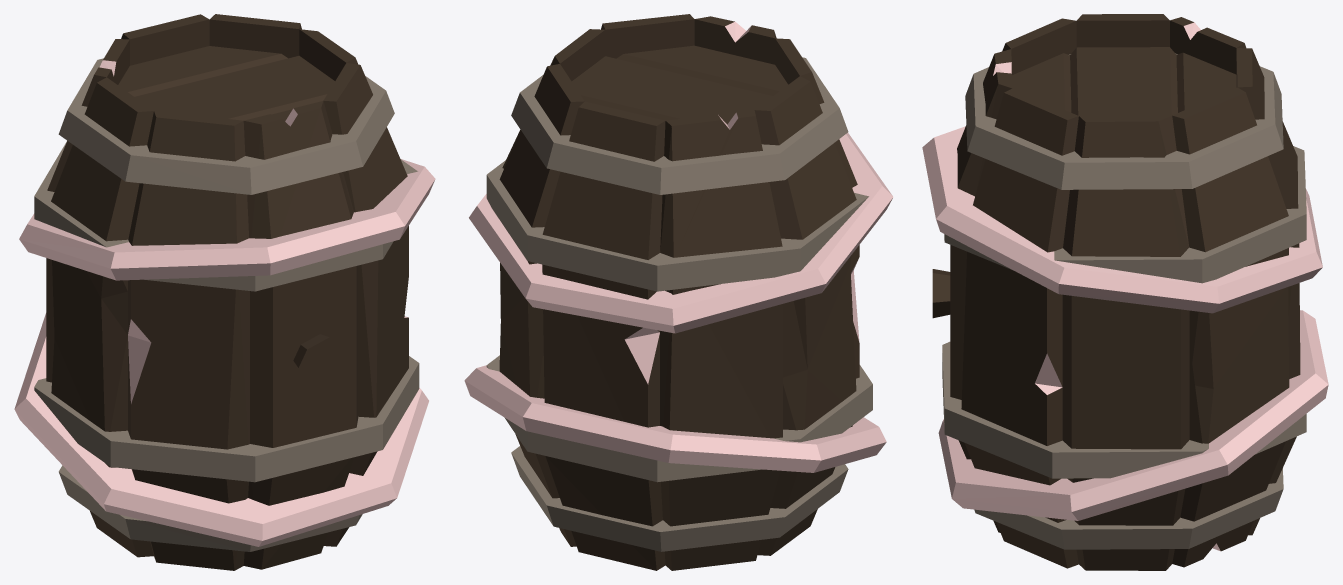
The model's file is SM_Veh_Extra_Barrel_01.glb.
3 renders of one model, left to right at view 1: azimuth 30°, elevation 25°; view 2: azimuth 150°, elevation 25°; view 3: azimuth 270°, elevation 25°, orthographic.
Visible parts, largest first — view 1: SM_Veh_Extra_Barrel_01_00; view 2: SM_Veh_Extra_Barrel_01_00; view 3: SM_Veh_Extra_Barrel_01_00.
Part boxes in pixels (x1,y1,x2,y2): SM_Veh_Extra_Barrel_01_00: [14, 14, 435, 570]; SM_Veh_Extra_Barrel_01_00: [464, 14, 893, 570]; SM_Veh_Extra_Barrel_01_00: [922, 14, 1328, 570].
Size of the model in its own units: 1.14 by 1.37 by 1.12.
Materials: 1 (1 with a texture image).
